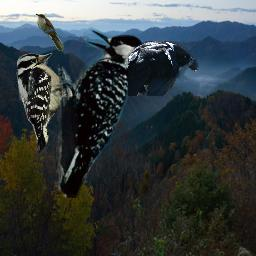Crow: (128, 41, 199, 96)
Cuckoo: (35, 13, 64, 51)
Woodpecker: (48, 27, 149, 198), (15, 51, 79, 156)
